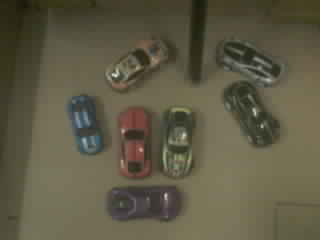Car: (223, 81, 279, 146), (106, 39, 167, 91), (217, 38, 282, 86), (161, 106, 194, 178), (108, 186, 180, 219), (118, 107, 151, 178), (69, 95, 102, 153)
